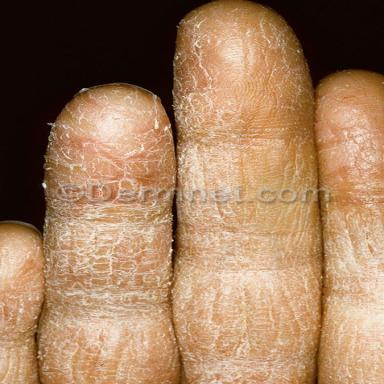eczema: (0, 0, 384, 382)
